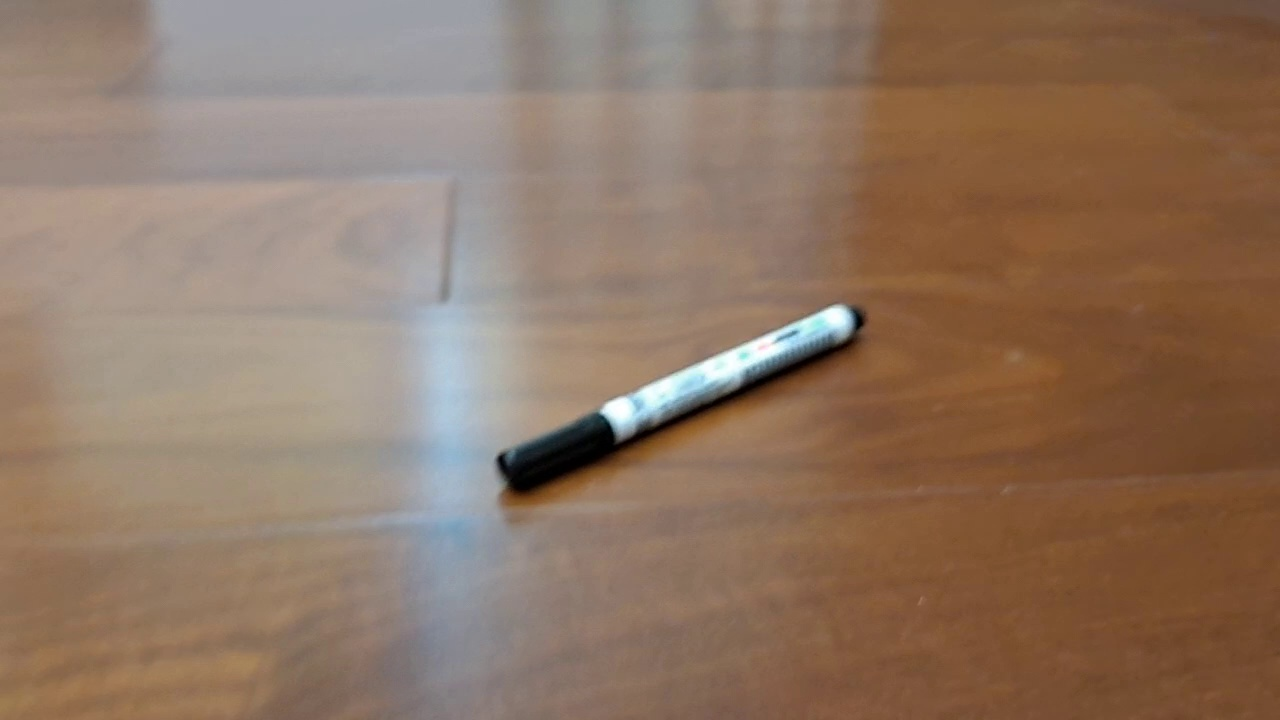pen: (496, 302, 866, 494)
